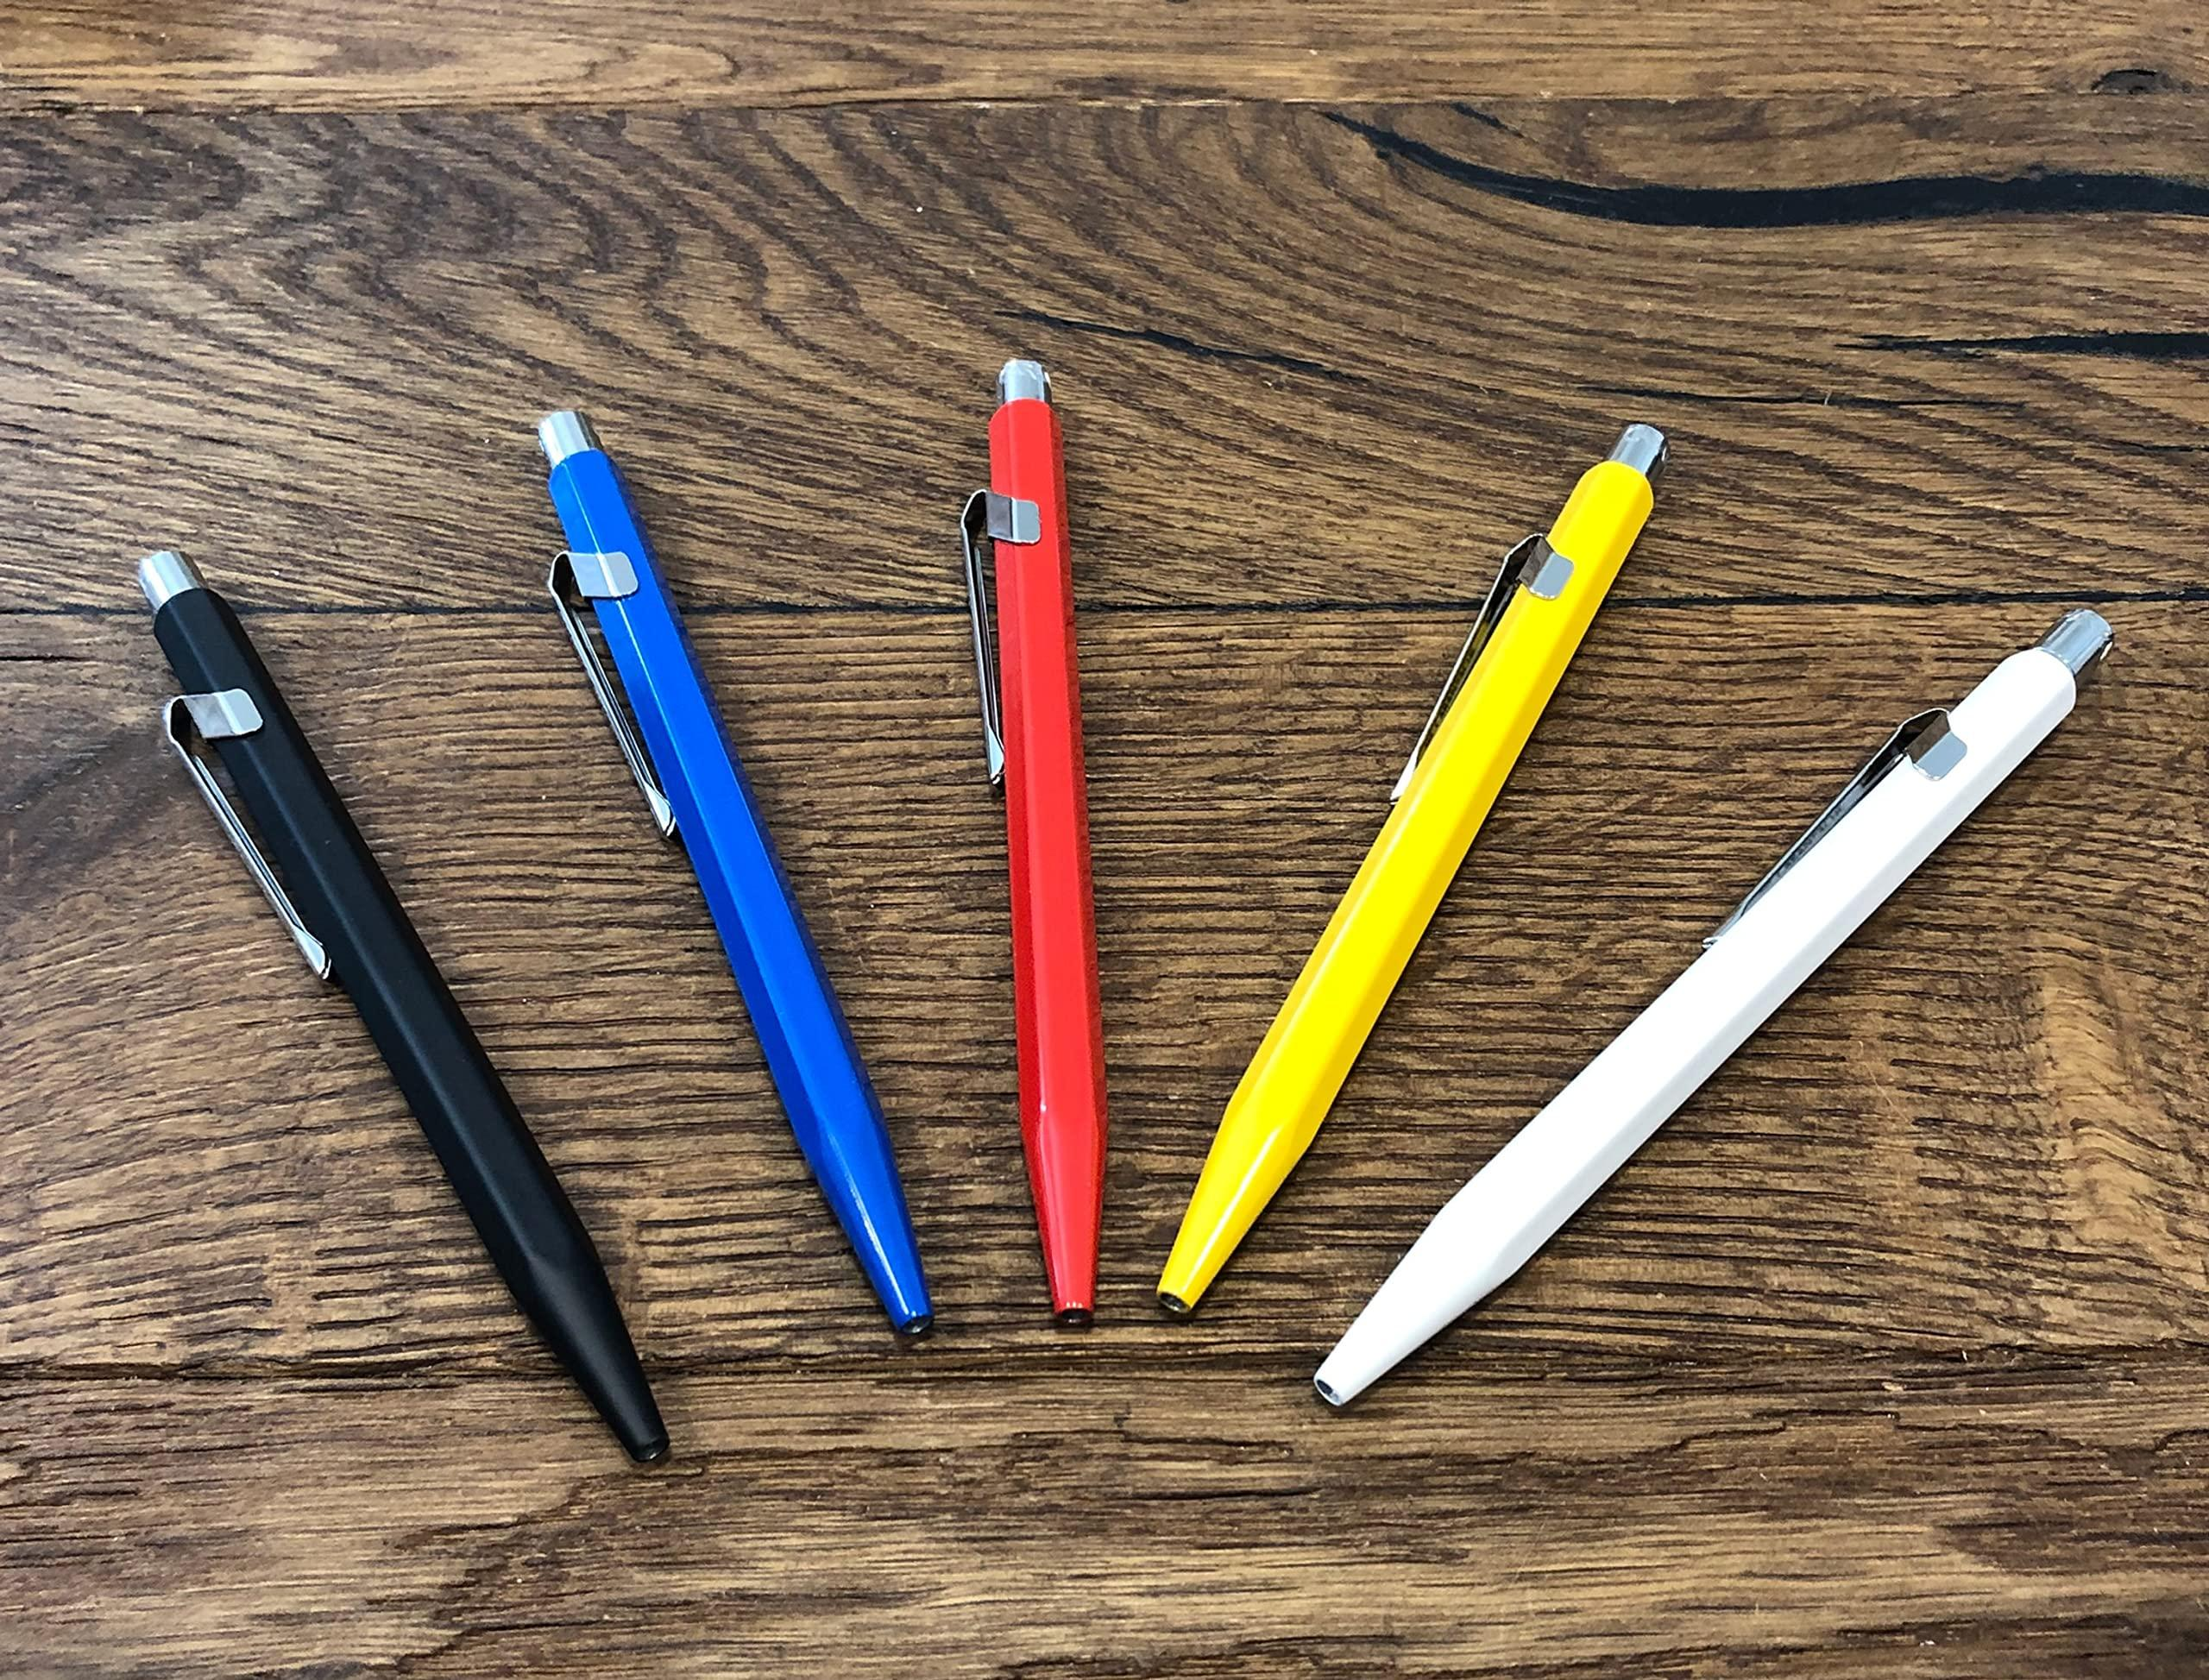Ballpen: (1313, 609, 2115, 1406), (139, 551, 669, 1461), (1159, 424, 1667, 1313), (538, 409, 932, 1334), (962, 358, 1106, 1324)
